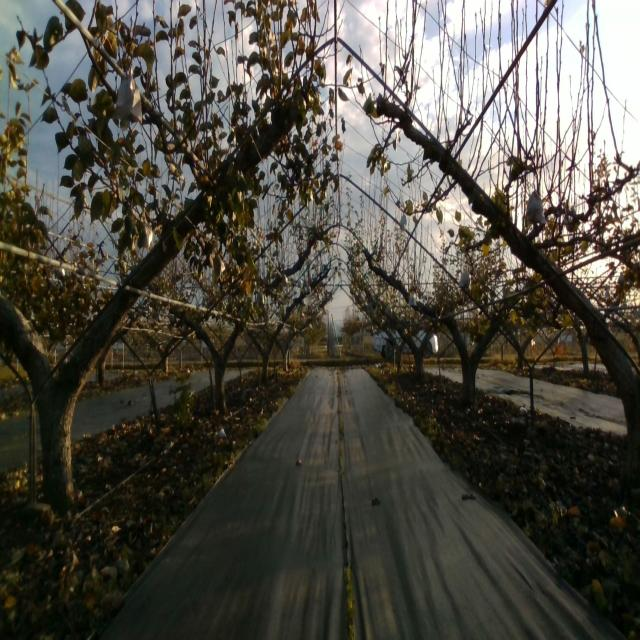pearbags: (112, 68, 142, 124), (524, 182, 546, 227), (136, 212, 154, 250), (459, 268, 470, 292)
